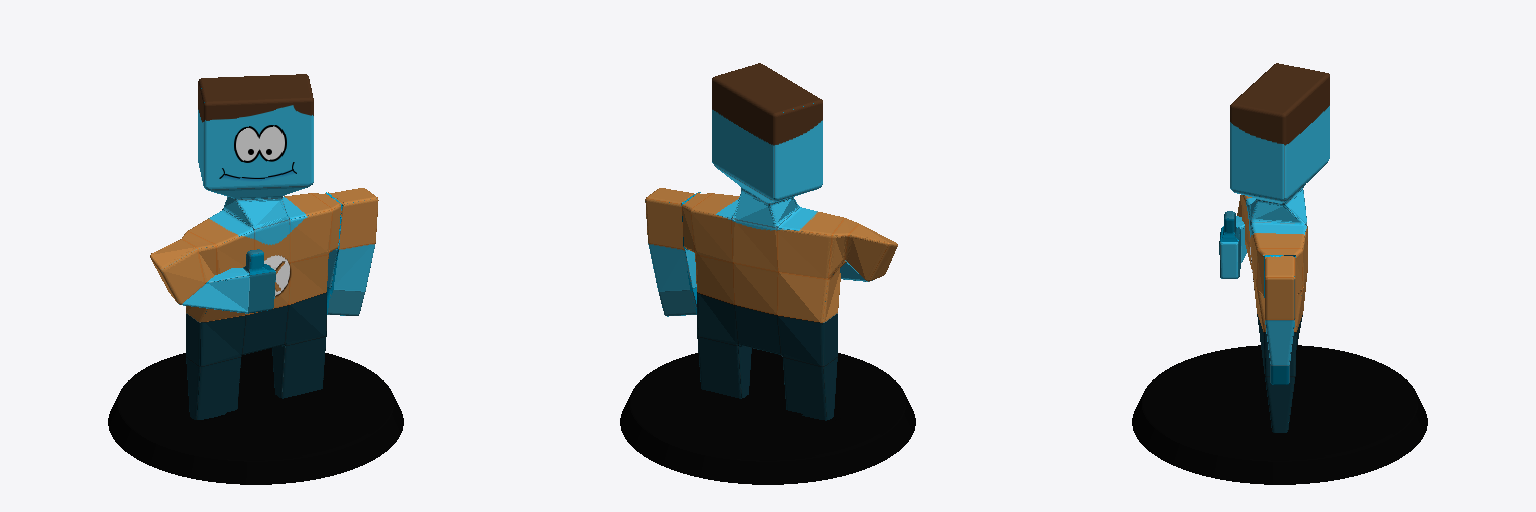
The picture shows the model from 3 angles: view 1: azimuth 30°, elevation 25°; view 2: azimuth 150°, elevation 25°; view 3: azimuth 270°, elevation 25°; orthographic projection.
Parts seen in each view (by area): view 1: kBert_Cube, Cylinder_Cylinder.001; view 2: kBert_Cube, Cylinder_Cylinder.001; view 3: Cylinder_Cylinder.001, kBert_Cube.
Part boxes in pixels (x1,y1,x2,y2): kBert_Cube: (150,74,378,419); Cylinder_Cylinder.001: (108,348,403,484); kBert_Cube: (645,63,897,420); Cylinder_Cylinder.001: (620,348,915,484); Cylinder_Cylinder.001: (1132,345,1427,484); kBert_Cube: (1219,63,1329,432).
Size of the model in its own units: 6.17 by 7.73 by 6.17.
2 materials, 1 textured.